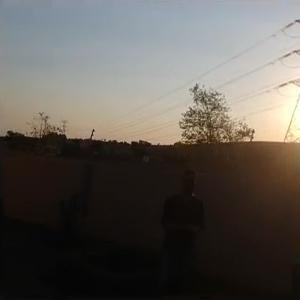follow: (152, 163, 206, 298)
